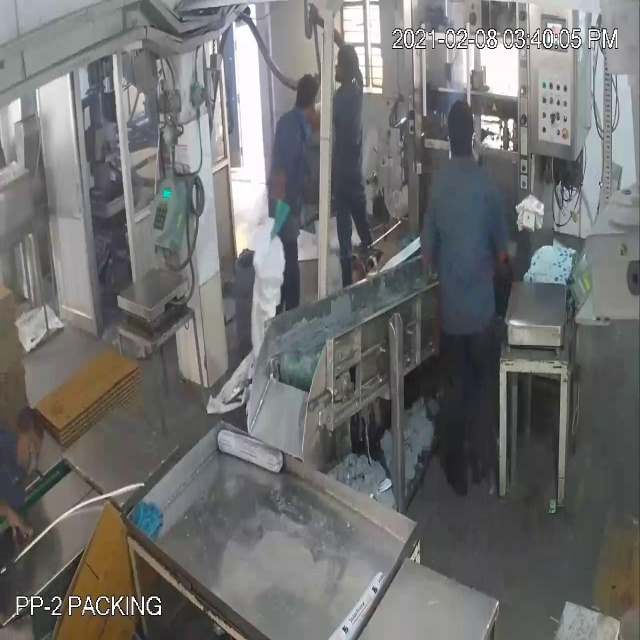Guantes: (254, 168, 300, 265)
Sin_guantes: (0, 476, 42, 572)
